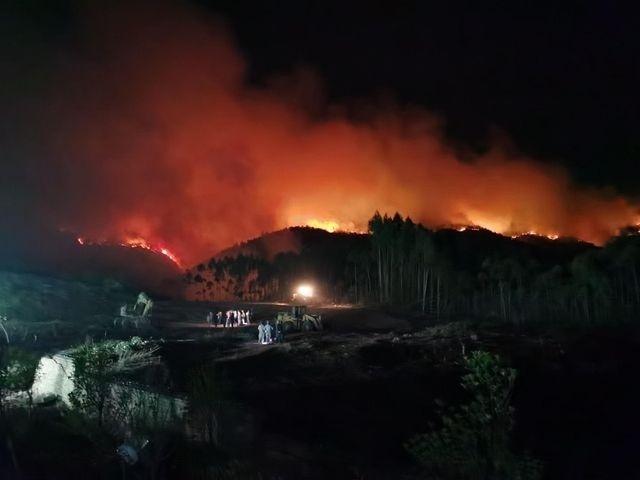fire: (460, 211, 568, 241), (123, 231, 179, 265), (291, 211, 349, 235)
